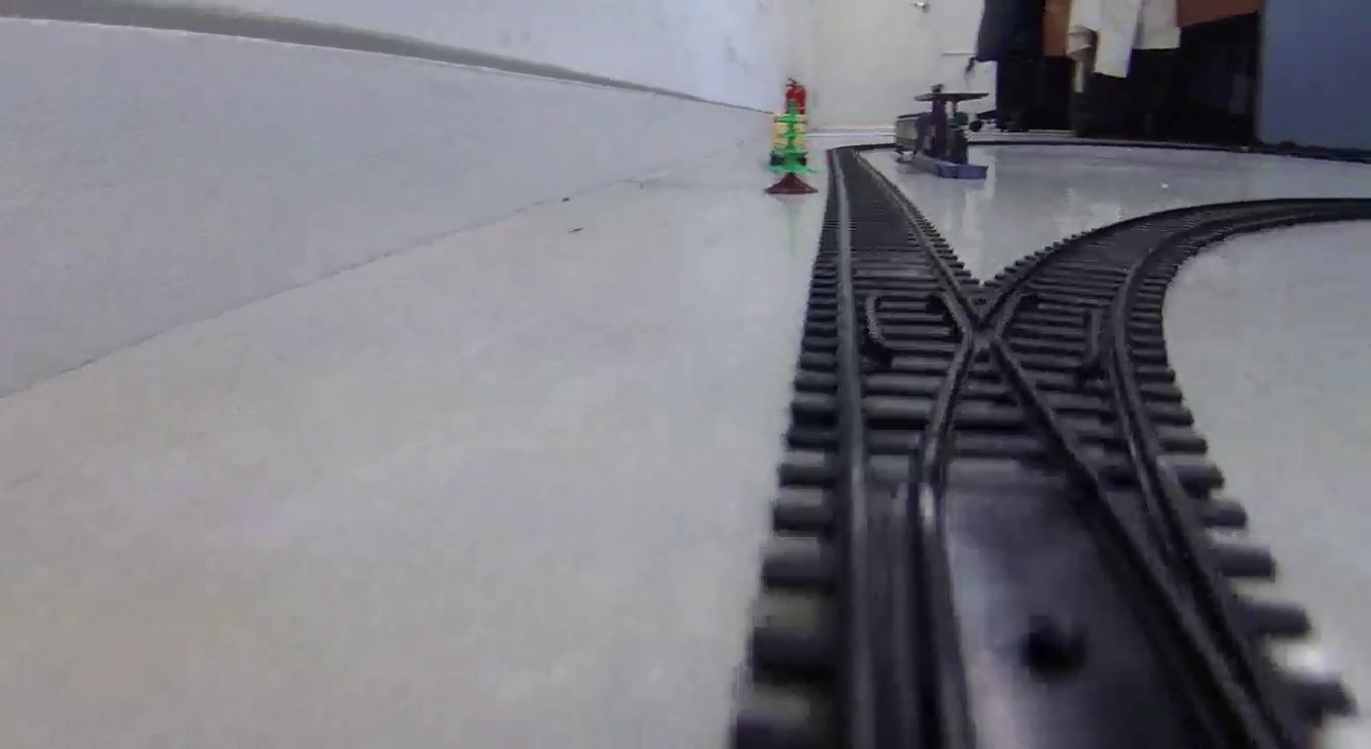tree: (770, 104, 822, 196)
